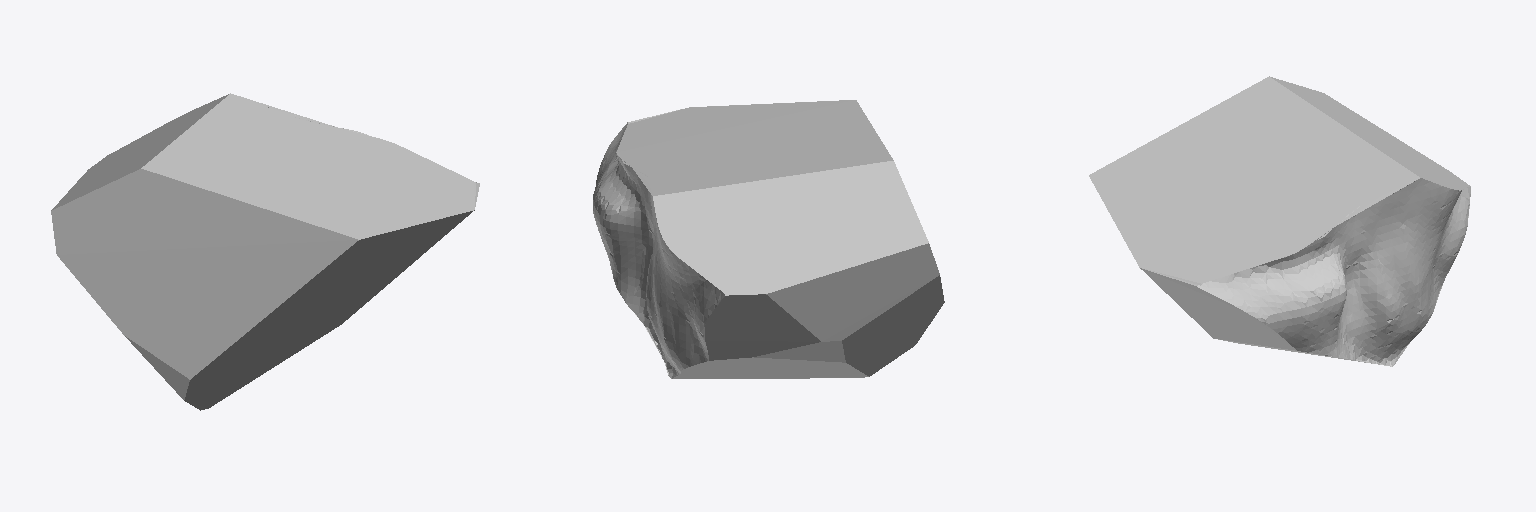
The model's file is low_cell_048.obj.
3 views of the same model, side by side, from view 1: azimuth 30°, elevation 25°; view 2: azimuth 150°, elevation 25°; view 3: azimuth 270°, elevation 25° (orthographic).
Visible parts, largest first — view 1: low_cell.048_low_cell.047; view 2: low_cell.048_low_cell.047; view 3: low_cell.048_low_cell.047.
Boxes of the visible parts, box(x1,y1,x2,y2) form: low_cell.048_low_cell.047: box(51, 93, 479, 410); low_cell.048_low_cell.047: box(593, 100, 944, 378); low_cell.048_low_cell.047: box(1089, 76, 1470, 366).
Size of the model in its own units: 1.01 by 0.6289 by 0.9028.